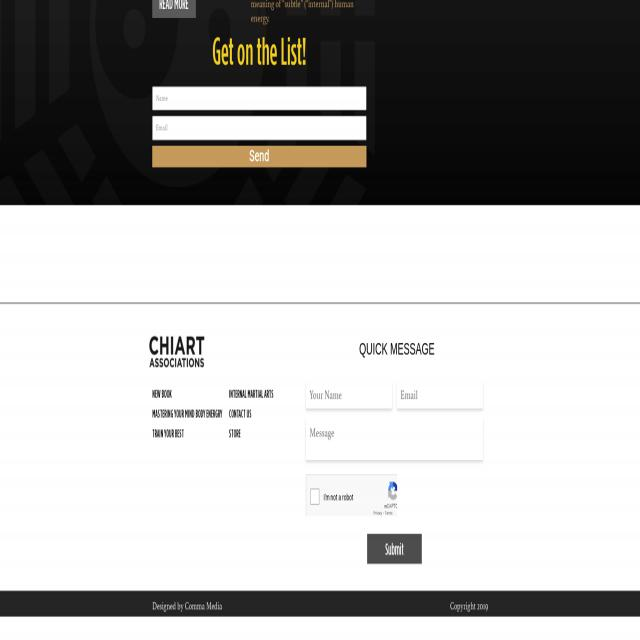button: (152, 145, 366, 167), (149, 336, 205, 368), (367, 534, 422, 564), (152, 0, 196, 18)
field: (306, 417, 483, 461), (152, 86, 366, 110), (152, 116, 366, 140), (306, 382, 392, 408), (397, 382, 483, 408), (310, 488, 320, 504)
